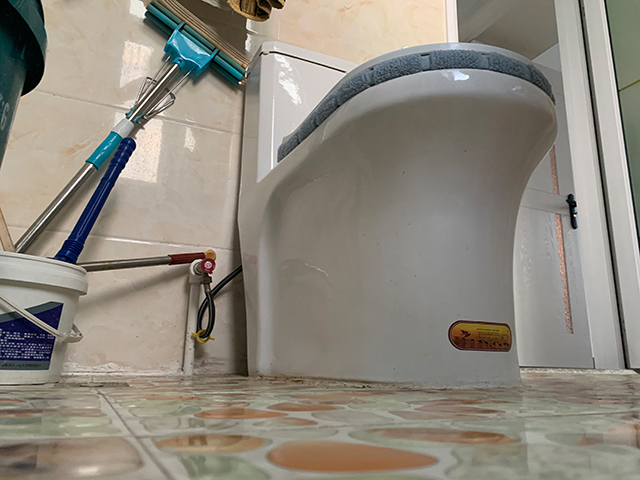closestool: (237, 39, 558, 390)
